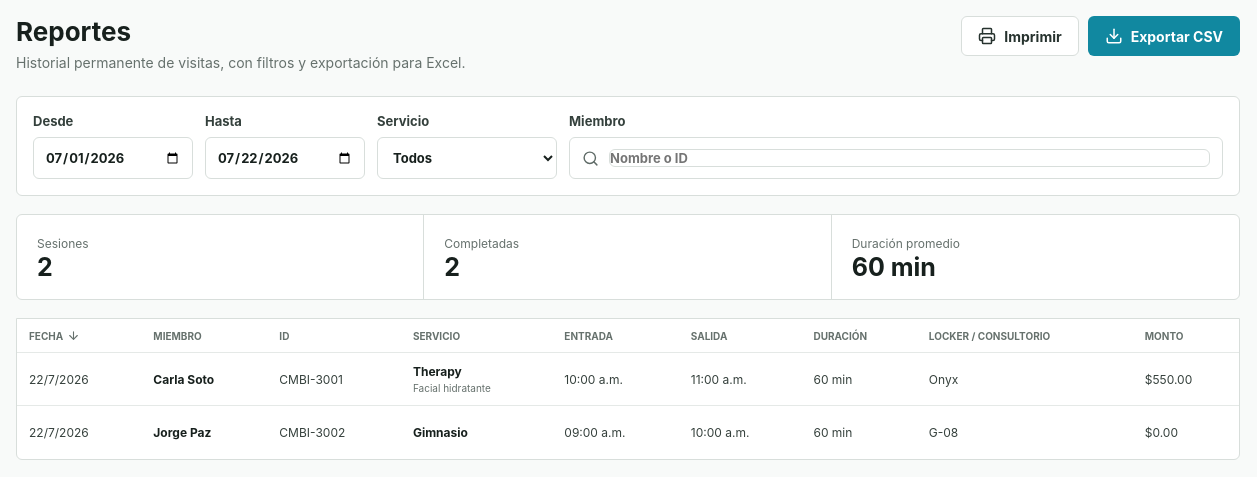
Scenario: Reportes › muestra las columnas requeridas y filtra por servicio
The width and height of the screenshot is (1257, 477).
Expected: the column heading "Fecha" is shown, [17,319,141,352]
Expected: the column heading "Miembro" is shown, [141,319,267,352]
Select "Therapy" in the dropdown labelled "Servicio": coordinates (467, 158) [377,137,557,179]
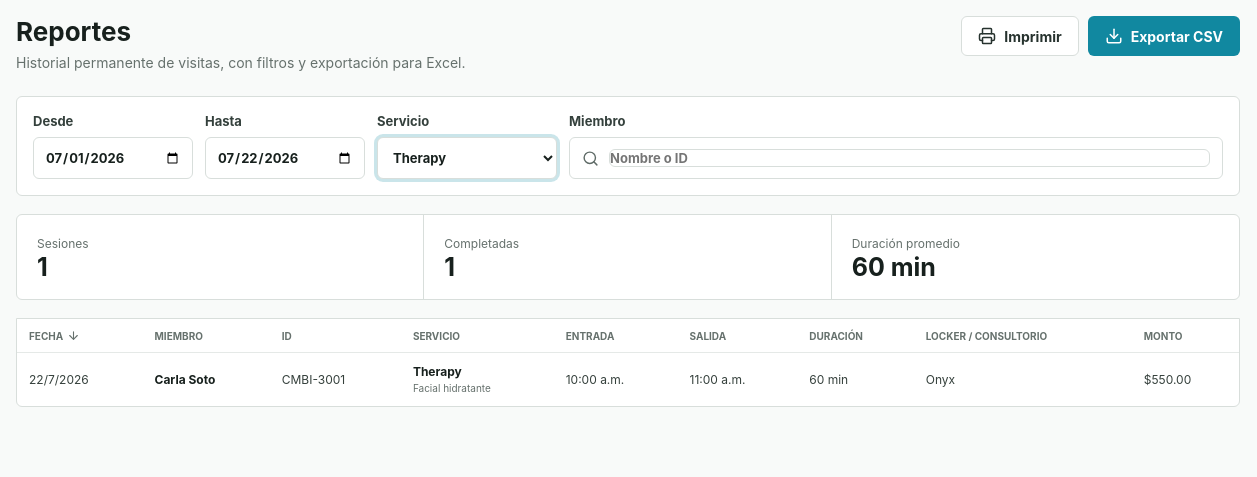
Expected: the text "Carla Soto" is shown, [154,372,215,387]
Now the text "Jorge Paz" is gone
